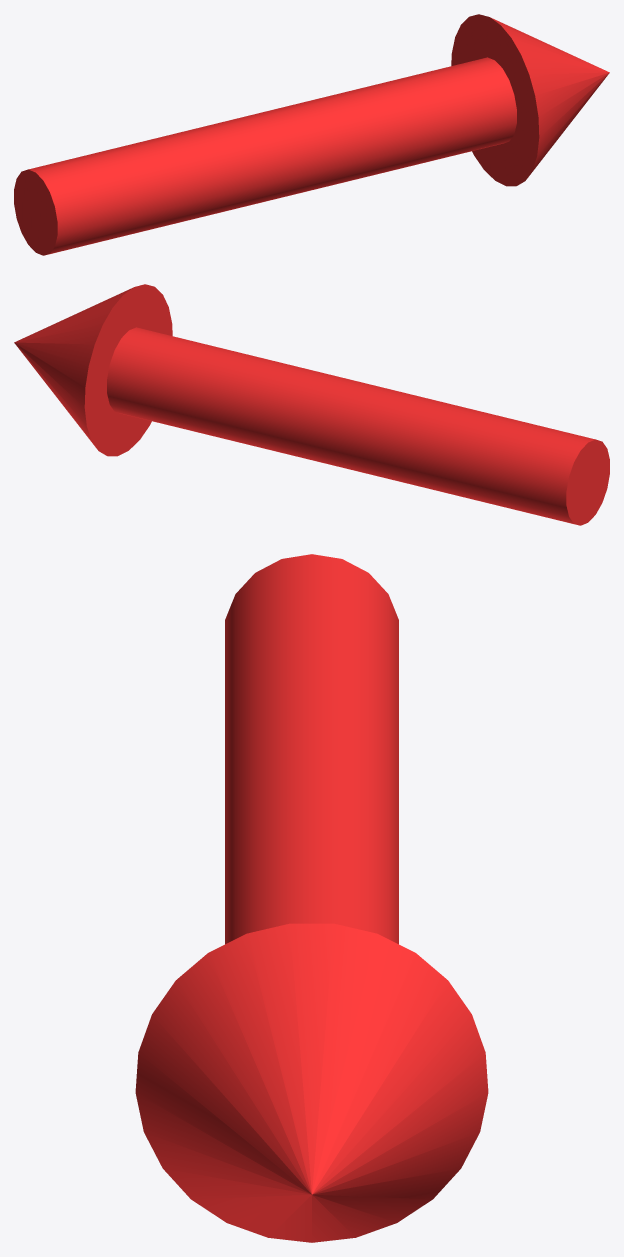
File: Arrow.fbx
The picture shows the model from 3 angles, top to bottom: view 1: azimuth 30°, elevation 25°; view 2: azimuth 150°, elevation 25°; view 3: azimuth 270°, elevation 25°; orthographic projection. The views are drawn at different scales.
Parts seen in each view (by area): view 1: 缩放比例1; view 2: 缩放比例1; view 3: 缩放比例1.
Boxes of the visible parts, x1,y1,x2,y2 form: 缩放比例1: (14,14,609,255); 缩放比例1: (14,284,609,525); 缩放比例1: (135,554,488,1242).
Bounding box in the file's own units: 14.76 × 3.92 × 3.93.
